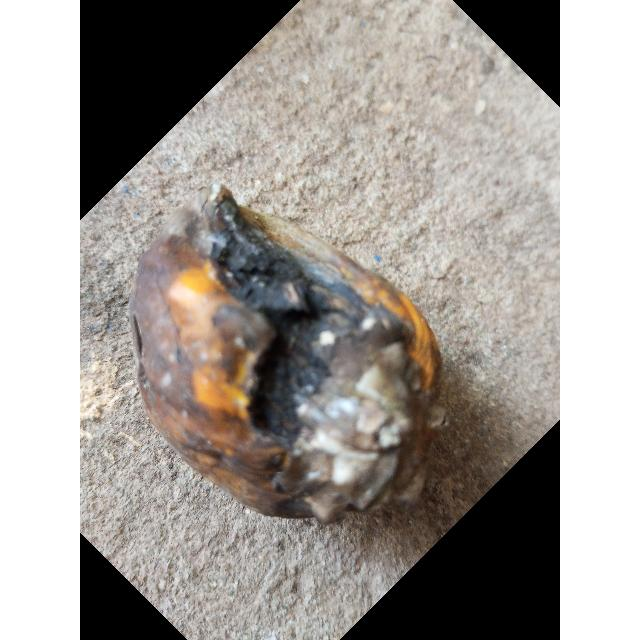damaged: (130, 184, 445, 523)
